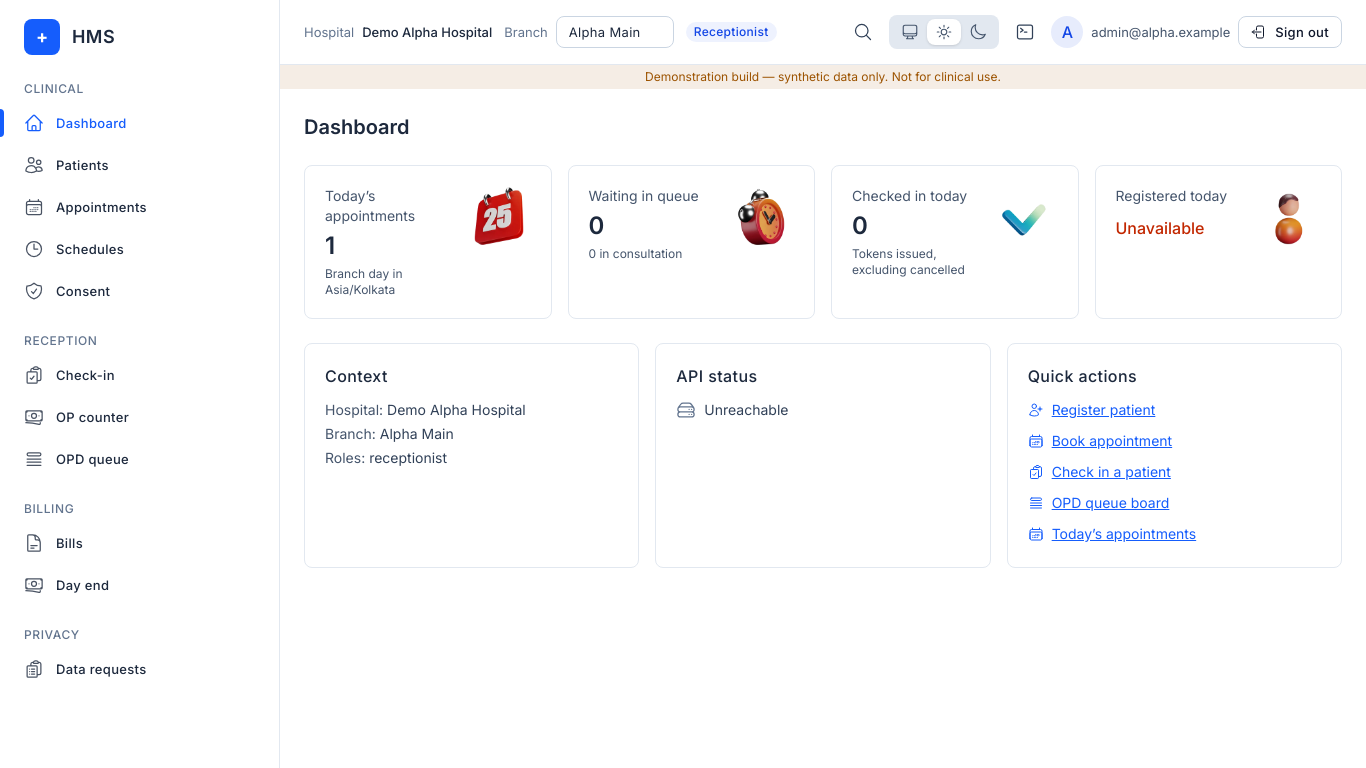
Test: reception keyboard shortcuts › Alt+K opens the booking panel with the practitioner select focused
Expected: the link "Check-in" is shown, [24,365,115,385]
Type keys "{Alt>}k{/Alt}"
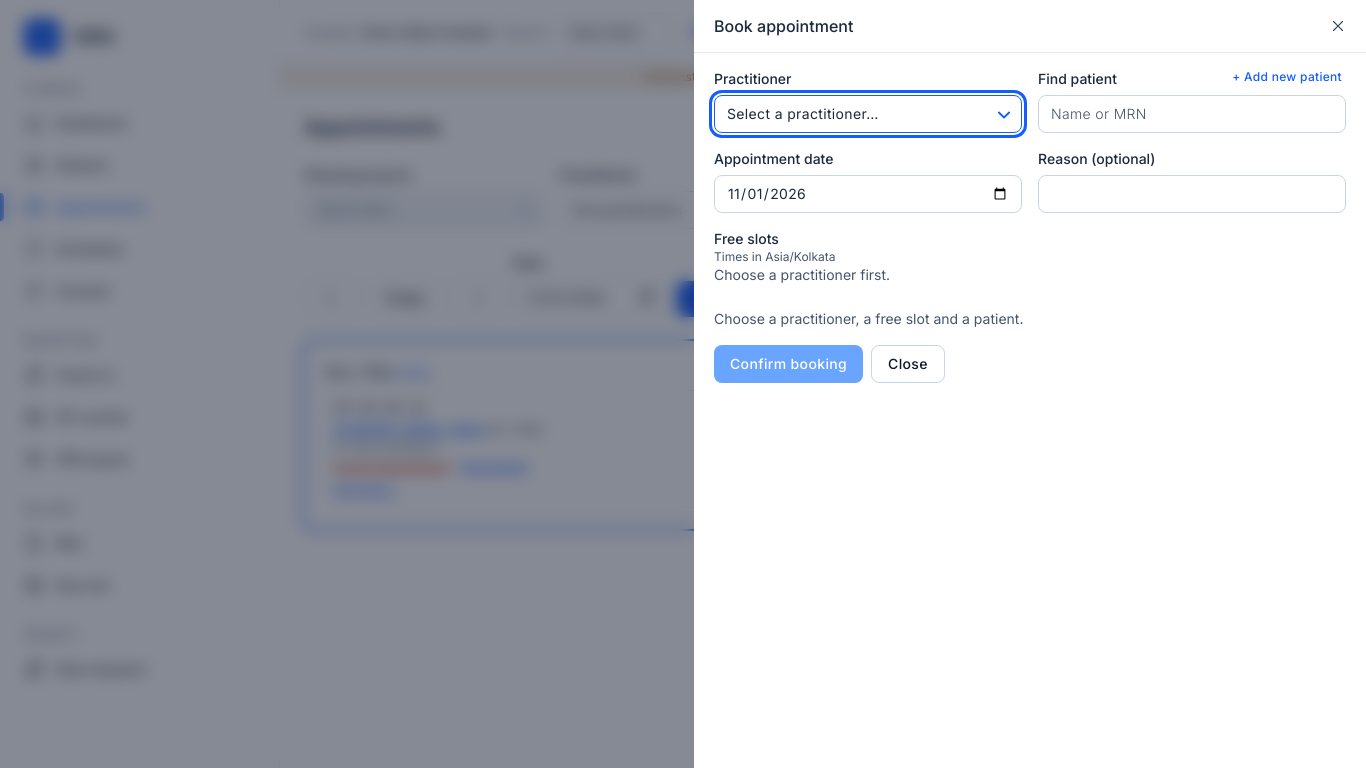
// Already on the page: Alt+K again keeps the one panel and refocuses it
Click the button "Close" at point(908, 364), box [871,345,945,383]
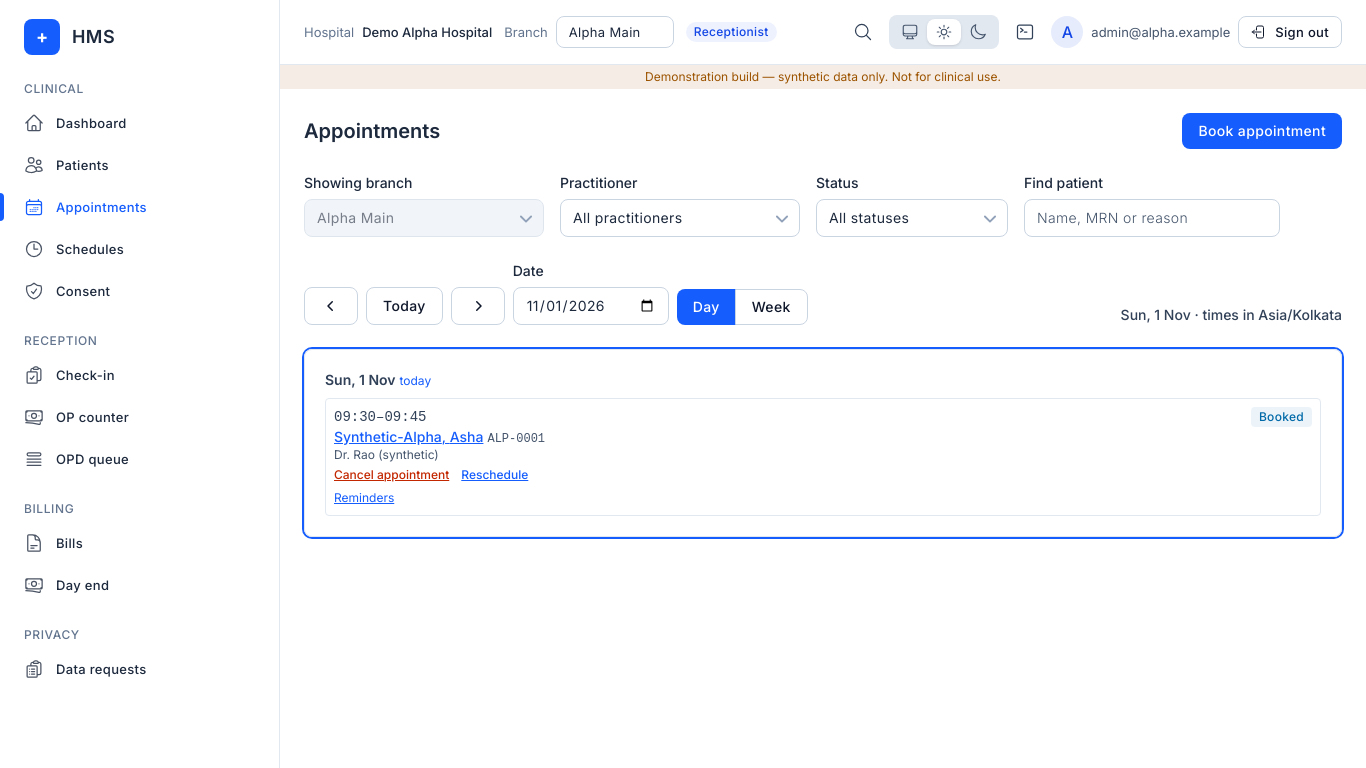
Type keys "{Alt>}k{/Alt}"
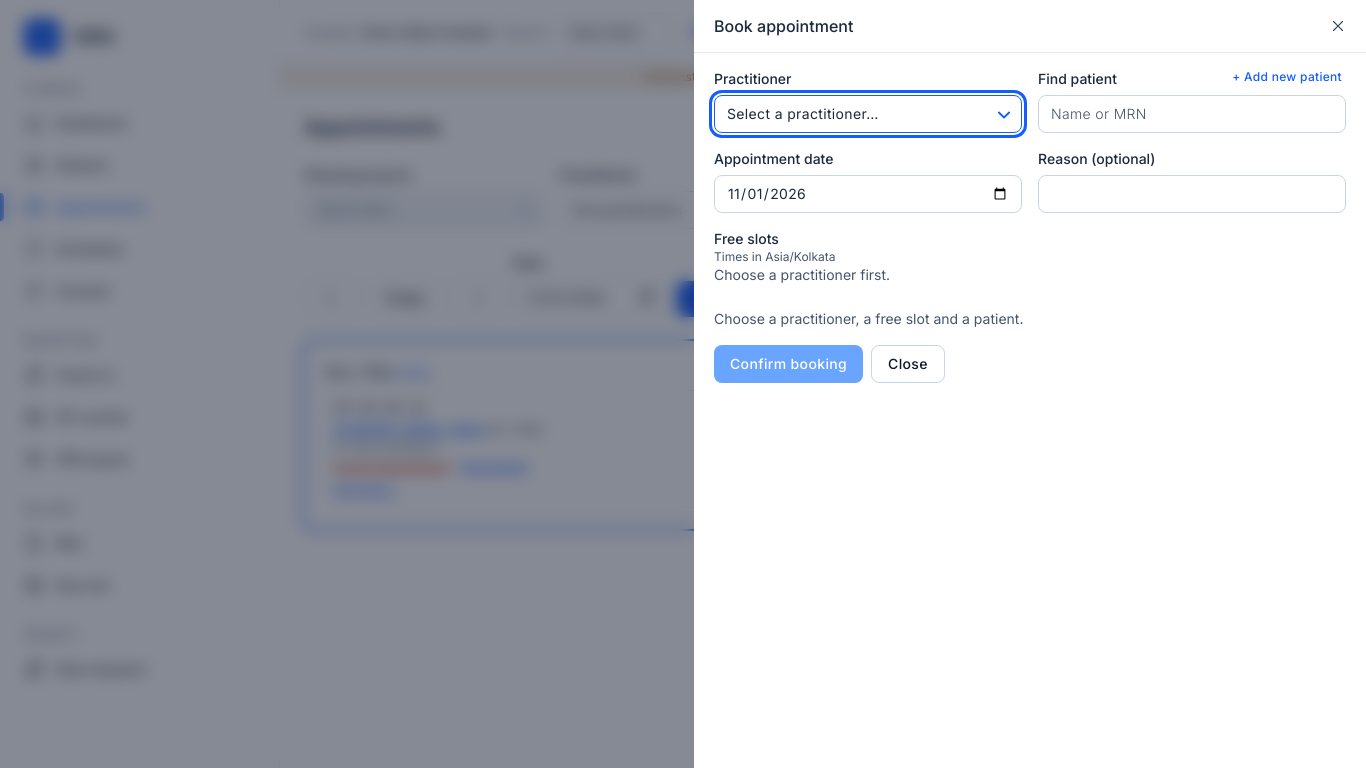
Now the number of forms named "Book appointment" is 1, box [714,69,1346,383]
